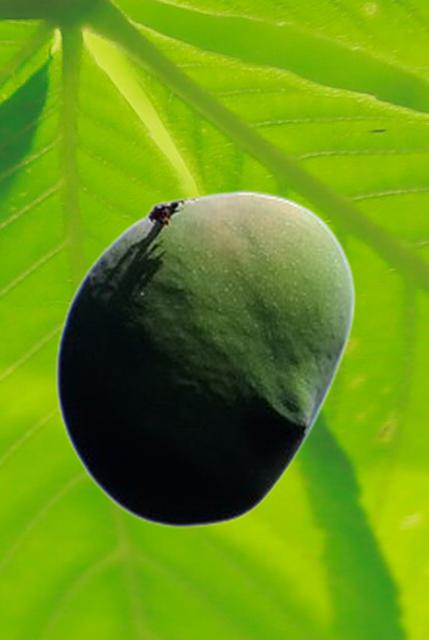green_mango: (54, 189, 356, 527)
